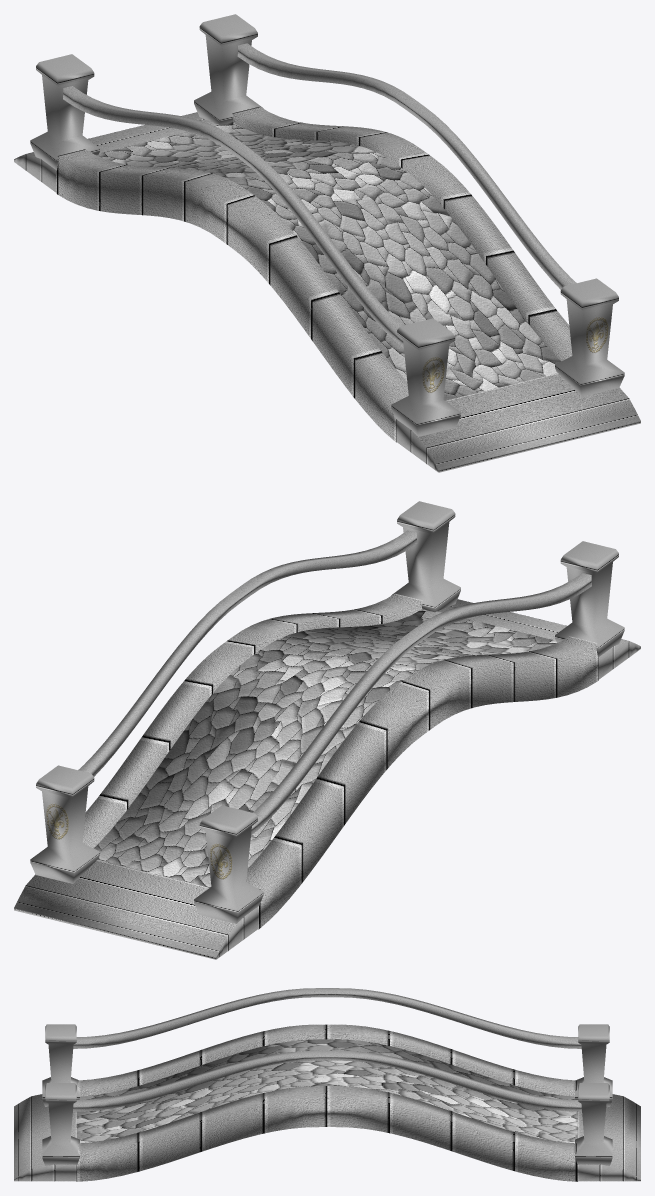
File: Stone Bridge.fbx
3 renders of one model, top to bottom at view 1: azimuth 30°, elevation 25°; view 2: azimuth 150°, elevation 25°; view 3: azimuth 270°, elevation 25°, orthographic. The views are drawn at different scales.
Visible parts, largest first — view 1: Cube.002; view 2: Cube.002; view 3: Cube.002.
Part boxes in pixels (x1,y1,x2,y2): Cube.002: [14, 14, 640, 472]; Cube.002: [14, 501, 640, 959]; Cube.002: [14, 988, 640, 1181].
Bounding box in the file's own units: 11.3 × 8.78 × 40.
